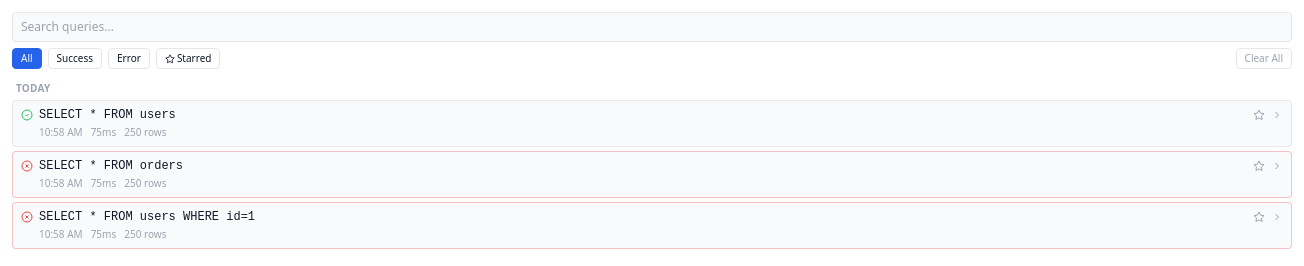
QHP-10: Combined search and status filter › applies both search and status filter simultaneously
// Filter to errors
Click the button with test id "query-history-filter-error" at point(129, 58), box [108,48,150,69]
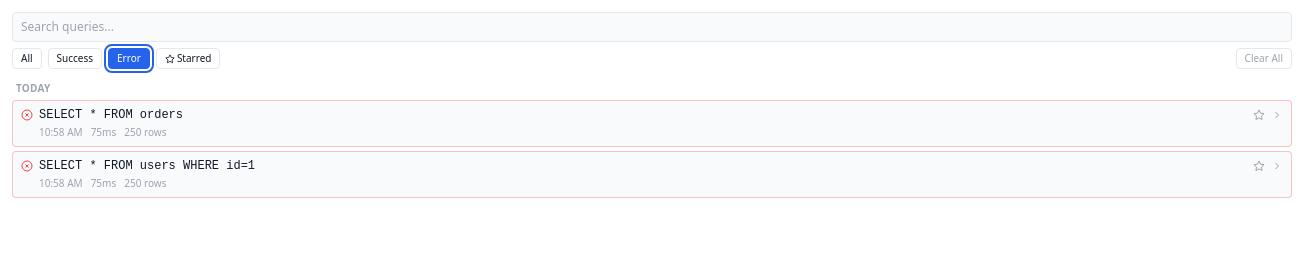
Expected: the number of elements with test id "query-history-entry" is 2, [12,100,1292,147]; [12,151,1292,198]
// Also search for "users"
Type "users" into the field with test id "query-history-search" at point(652, 27), box [12,12,1292,42]
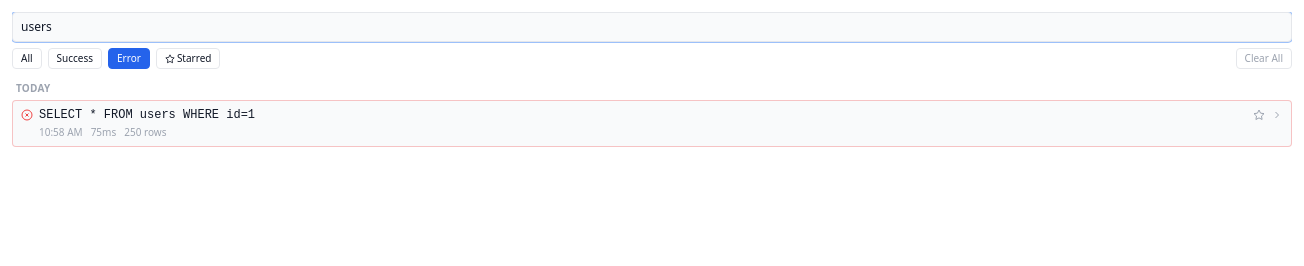
Expected: the text with test id "query-history-entry-sql" reads "SELECT * FROM users WHERE id=1", [39,108,255,122]
Expected: the number of elements with test id "query-history-entry" is 1, [12,100,1292,147]
